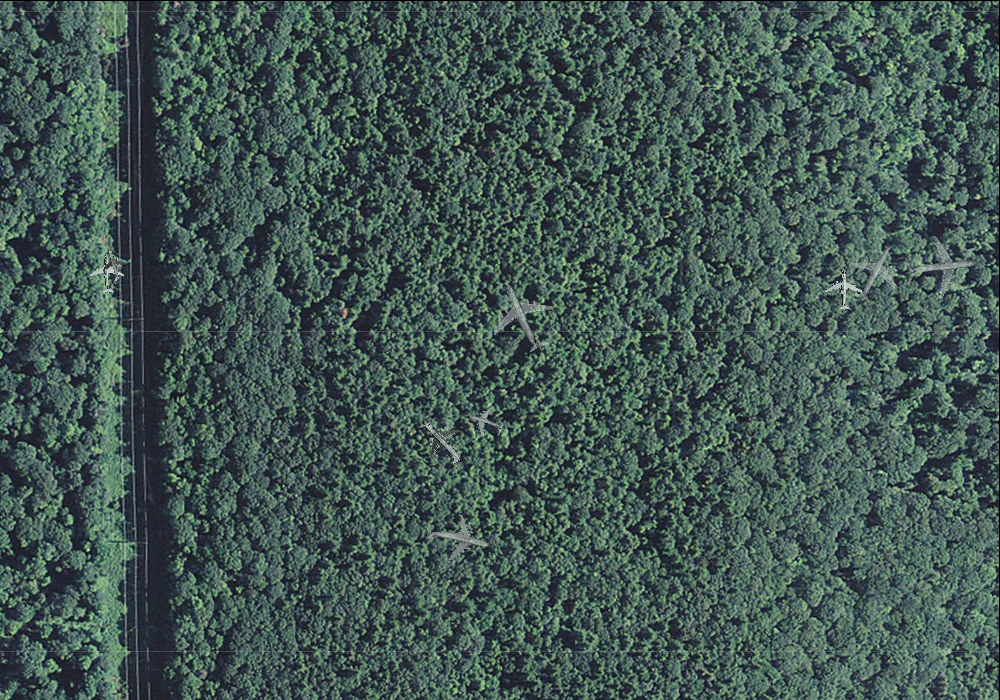plane: (476, 268, 570, 364), (836, 234, 913, 313), (403, 405, 479, 482), (902, 230, 979, 304), (419, 505, 495, 576), (462, 400, 508, 444), (92, 244, 132, 288), (824, 268, 864, 310), (88, 254, 125, 292)
